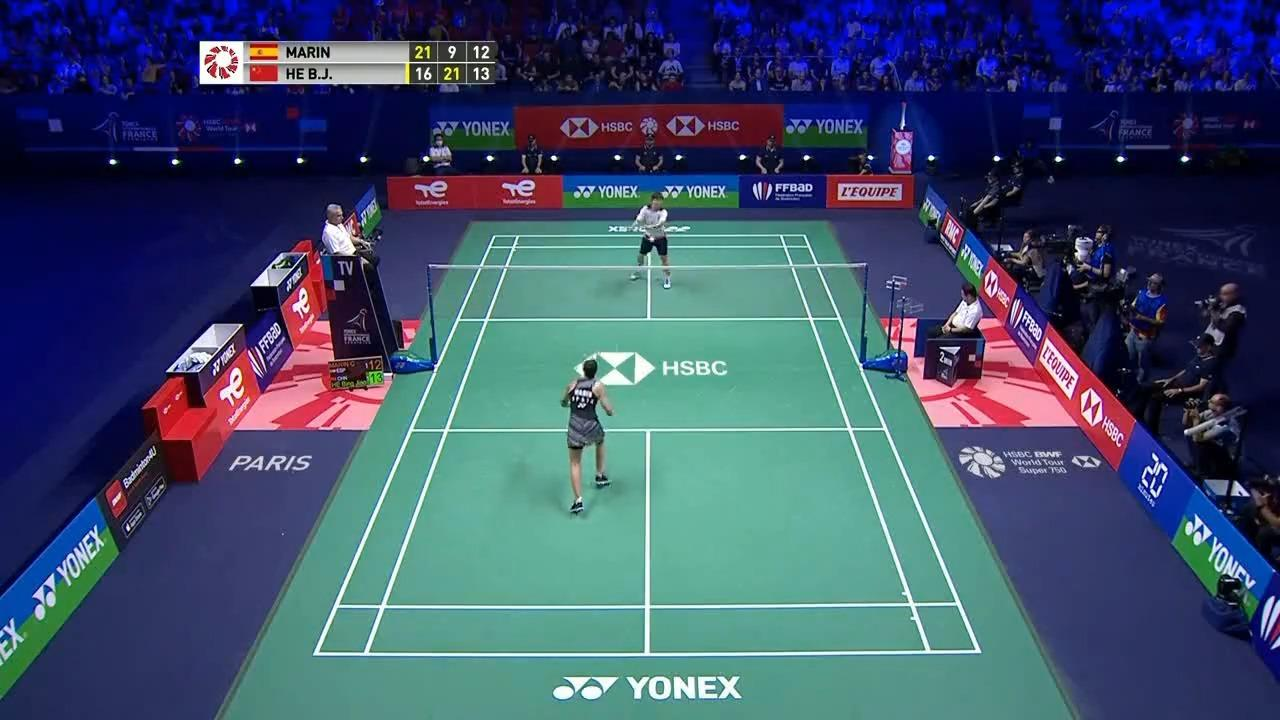shuttle: (648, 235, 658, 244)
